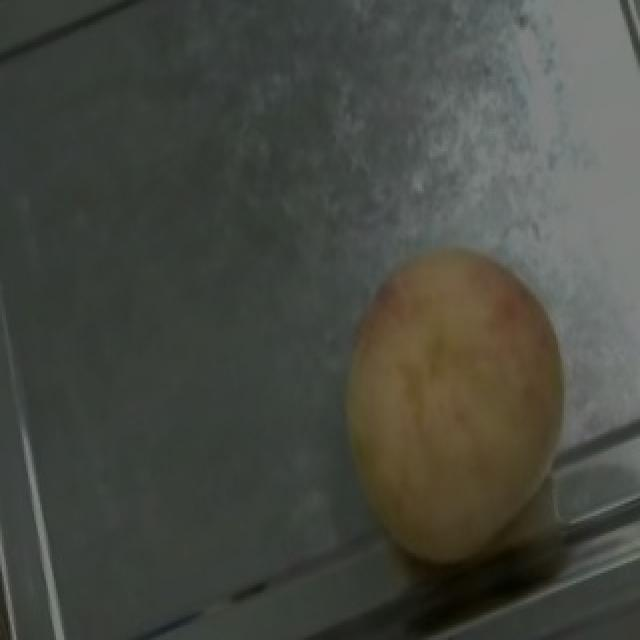Fruit: (298, 211, 618, 610)
